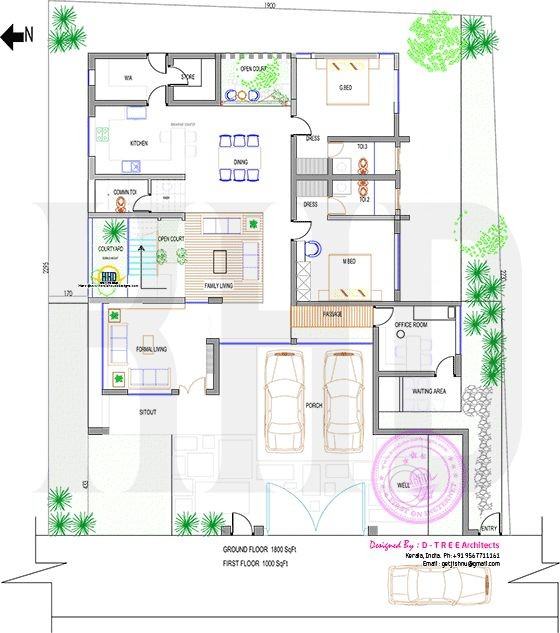door: (259, 473, 372, 538), (217, 510, 258, 541), (472, 505, 507, 537), (284, 214, 320, 244), (429, 346, 460, 380), (171, 373, 216, 396), (141, 52, 171, 78), (287, 113, 317, 139), (129, 190, 159, 214), (170, 59, 192, 90), (327, 194, 352, 221), (371, 300, 395, 328), (143, 84, 171, 106), (323, 139, 348, 162)
room: (89, 302, 372, 535), (297, 133, 396, 303), (92, 220, 294, 299), (89, 106, 291, 180), (177, 110, 295, 220), (371, 306, 466, 431), (370, 435, 467, 541), (292, 51, 398, 141), (86, 51, 167, 108), (86, 175, 193, 218), (170, 50, 221, 106)
wall: (452, 426, 484, 539), (371, 287, 469, 313), (366, 420, 472, 442), (370, 290, 465, 313), (295, 165, 401, 183), (203, 336, 231, 404), (88, 169, 190, 187), (325, 131, 414, 151), (370, 323, 384, 443), (282, 133, 301, 221), (86, 207, 187, 223), (325, 206, 412, 224), (167, 45, 222, 72), (87, 94, 152, 115), (286, 242, 306, 308), (288, 294, 376, 309), (367, 367, 437, 384), (285, 53, 303, 118), (162, 94, 230, 110), (211, 49, 228, 111), (81, 48, 148, 63), (388, 110, 410, 152), (84, 86, 104, 119), (82, 420, 113, 438), (449, 353, 468, 382), (99, 383, 131, 400), (205, 294, 231, 311), (86, 153, 99, 184), (82, 50, 98, 71)
